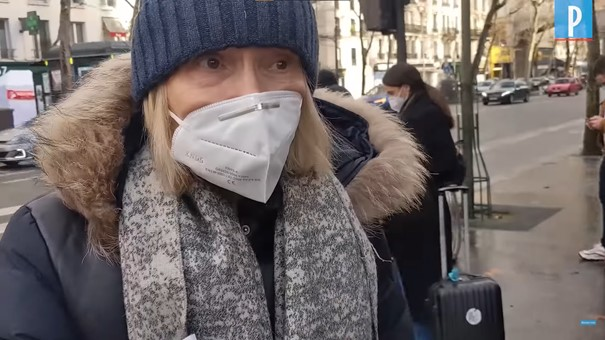with_mask: (146, 48, 313, 210), (385, 78, 411, 118)
